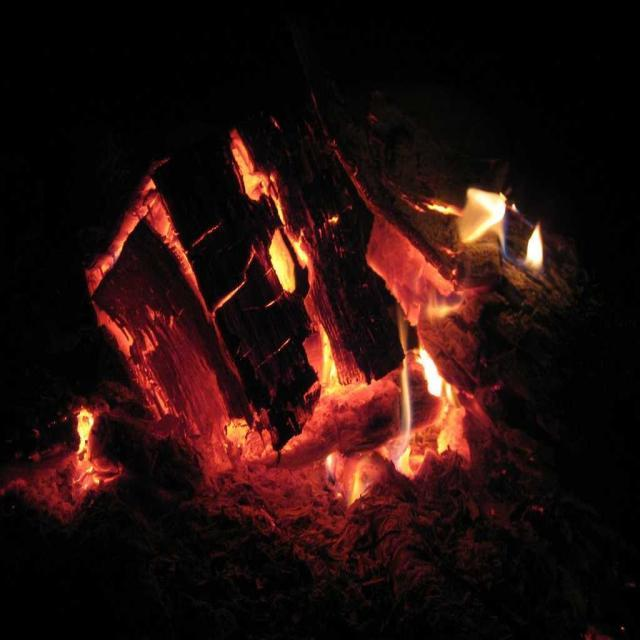Fire: (460, 183, 509, 234), (410, 355, 440, 385)
